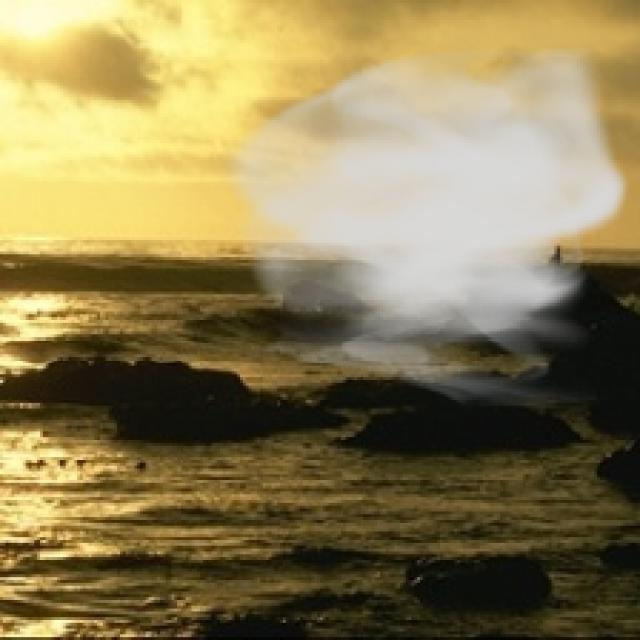Smoke: (214, 37, 632, 412)
